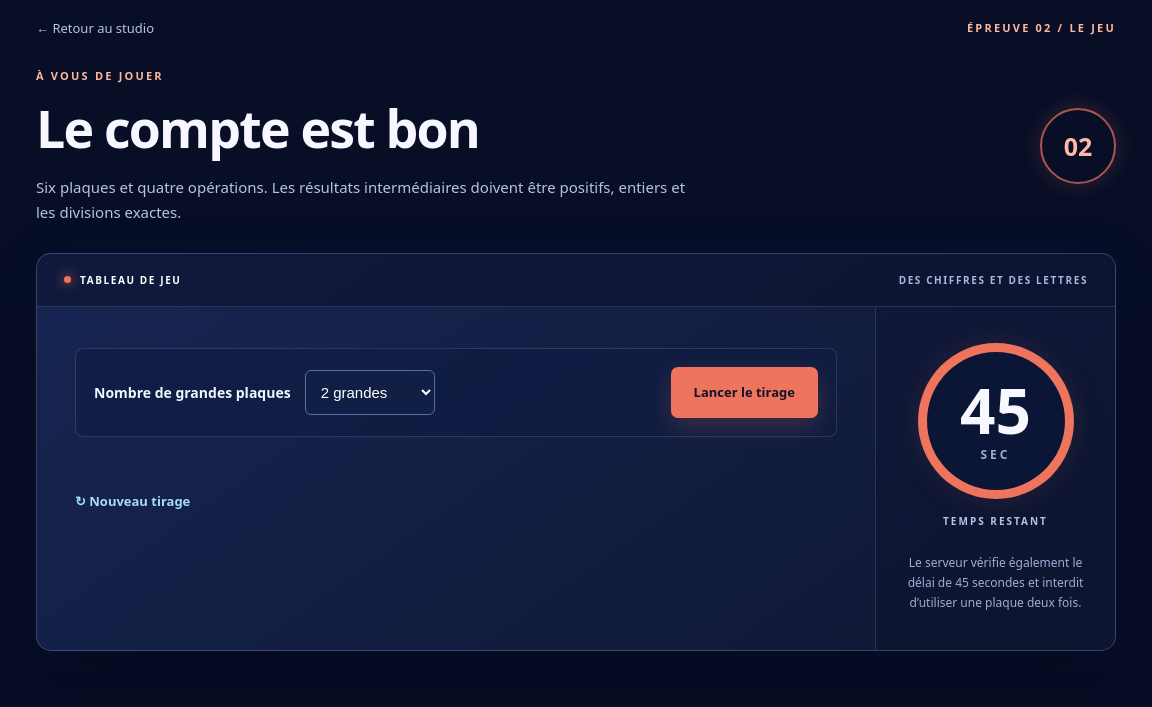
Test: invalid server result does not finish a round
This screenshot has width=1152, height=707.
Click the button "Lancer le tirage" at [744, 392], box top-left (671, 367), bottom-right (818, 418)
(page scrolled)
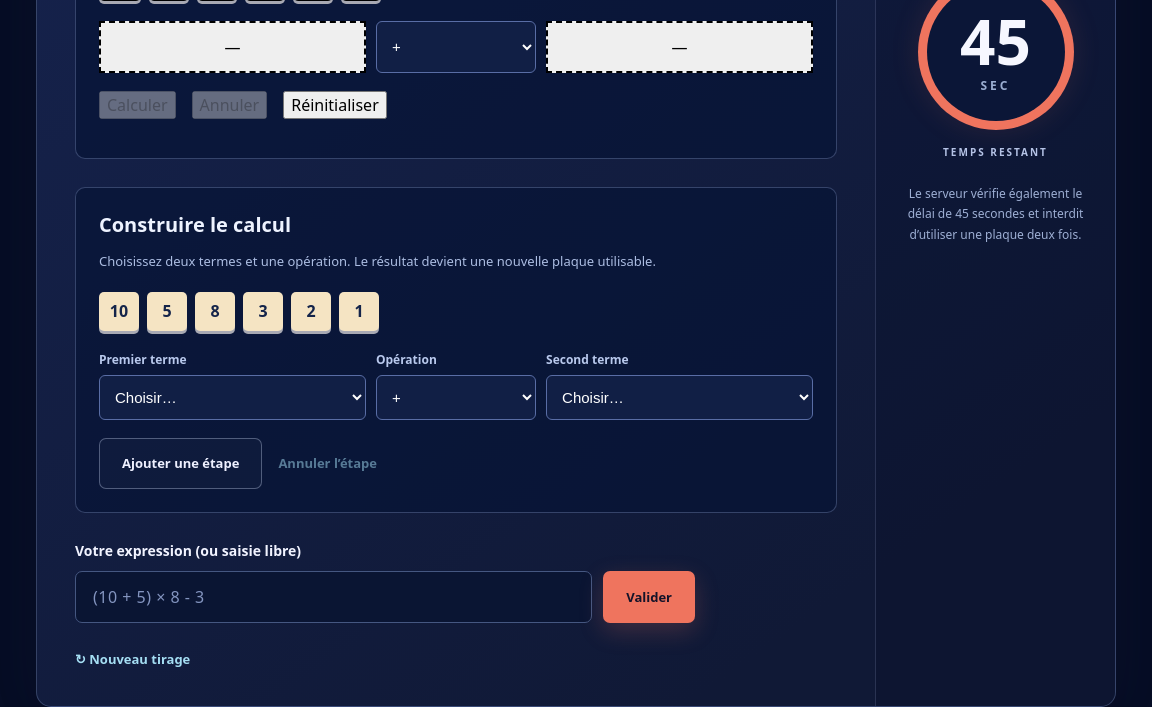
Now the field labelled "Votre expression (ou saisie libre)" is shown
Type "10 / 3" into the field labelled "Votre expression (ou saisie libre)" at [334, 597], box top-left (75, 571), bottom-right (592, 623)
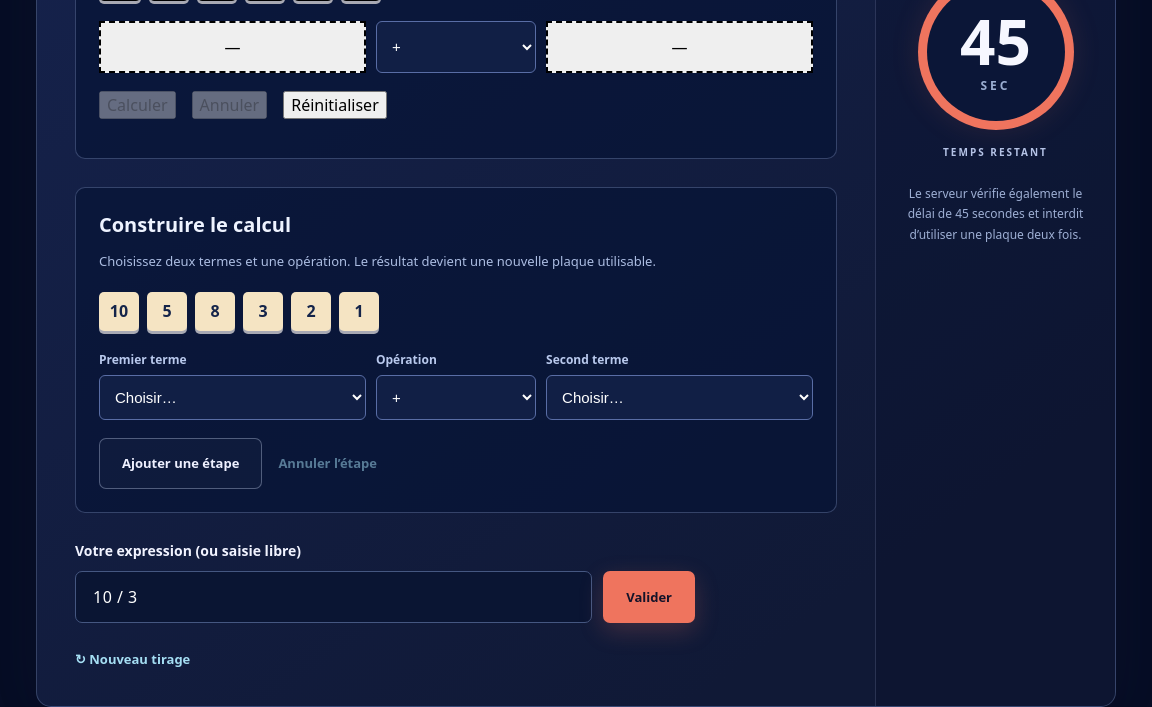
Click the button "Valider" at [649, 597], box top-left (603, 571), bottom-right (695, 623)
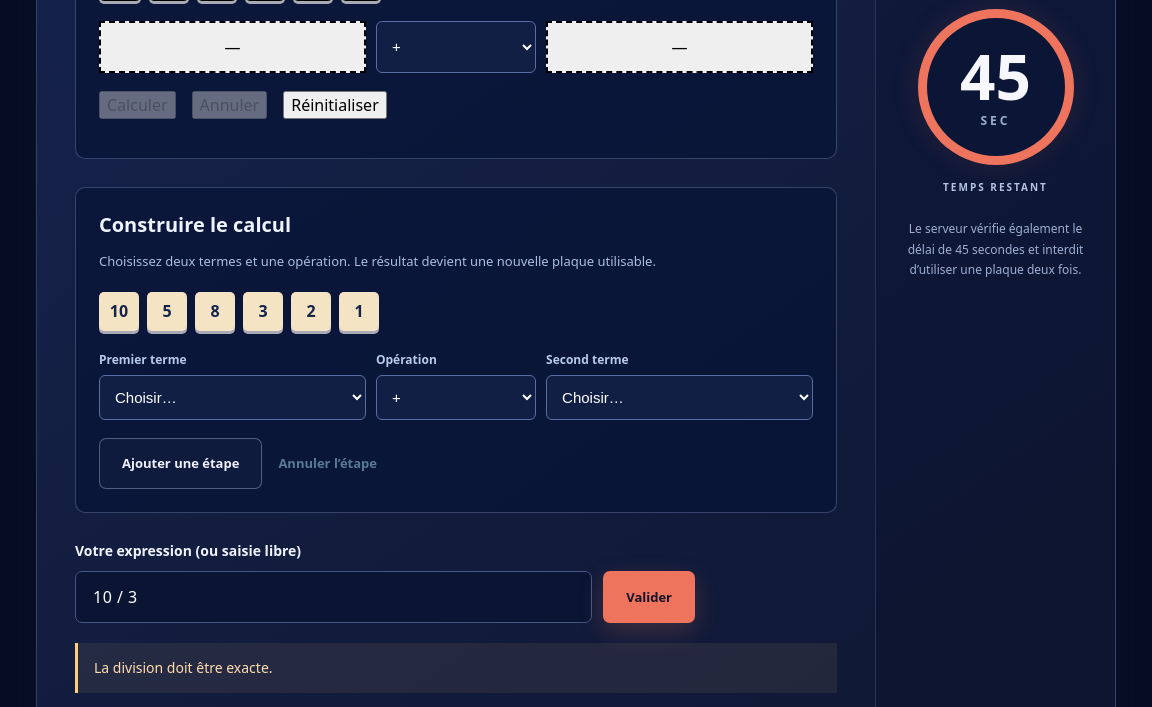
Now the button "Valider" is enabled, box top-left (603, 571), bottom-right (695, 623)
Now the text "La division doit être exacte." is shown, box top-left (75, 643), bottom-right (837, 693)
